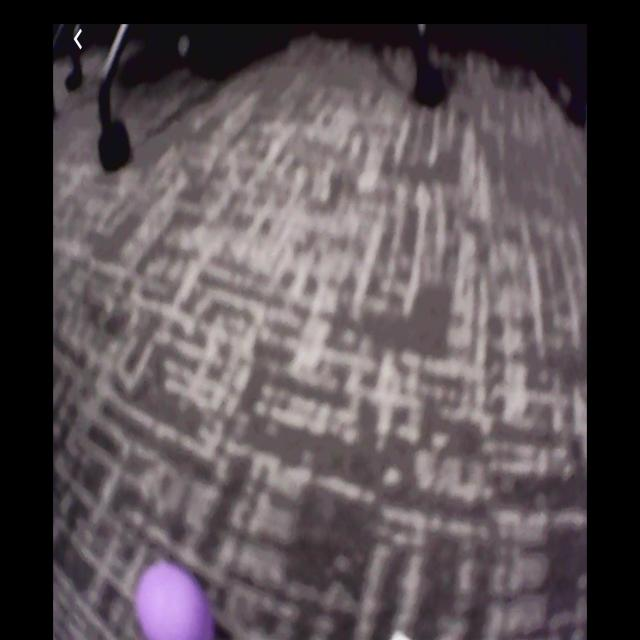ball: (136, 563, 216, 640)
